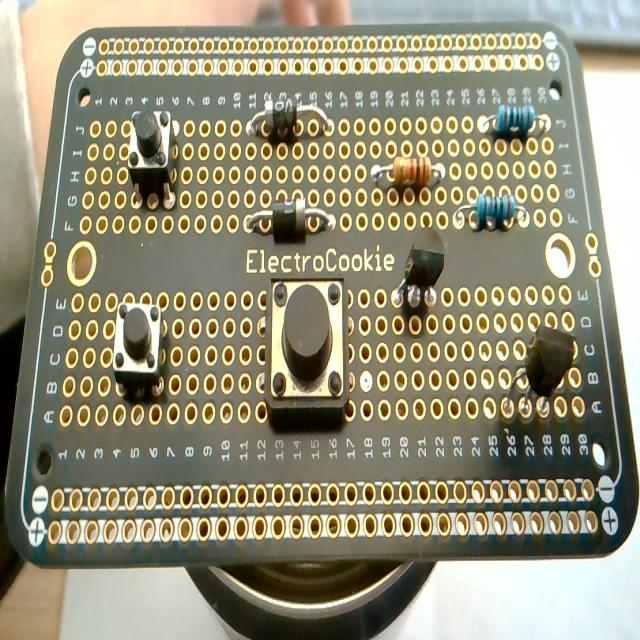diode: (246, 188, 340, 250), (247, 94, 343, 135)
resistor: (457, 178, 525, 236), (480, 93, 550, 145), (384, 146, 448, 188)
switch: (263, 270, 353, 430), (107, 288, 169, 404), (121, 105, 182, 215)
transistor: (501, 317, 573, 434), (396, 227, 448, 336)
